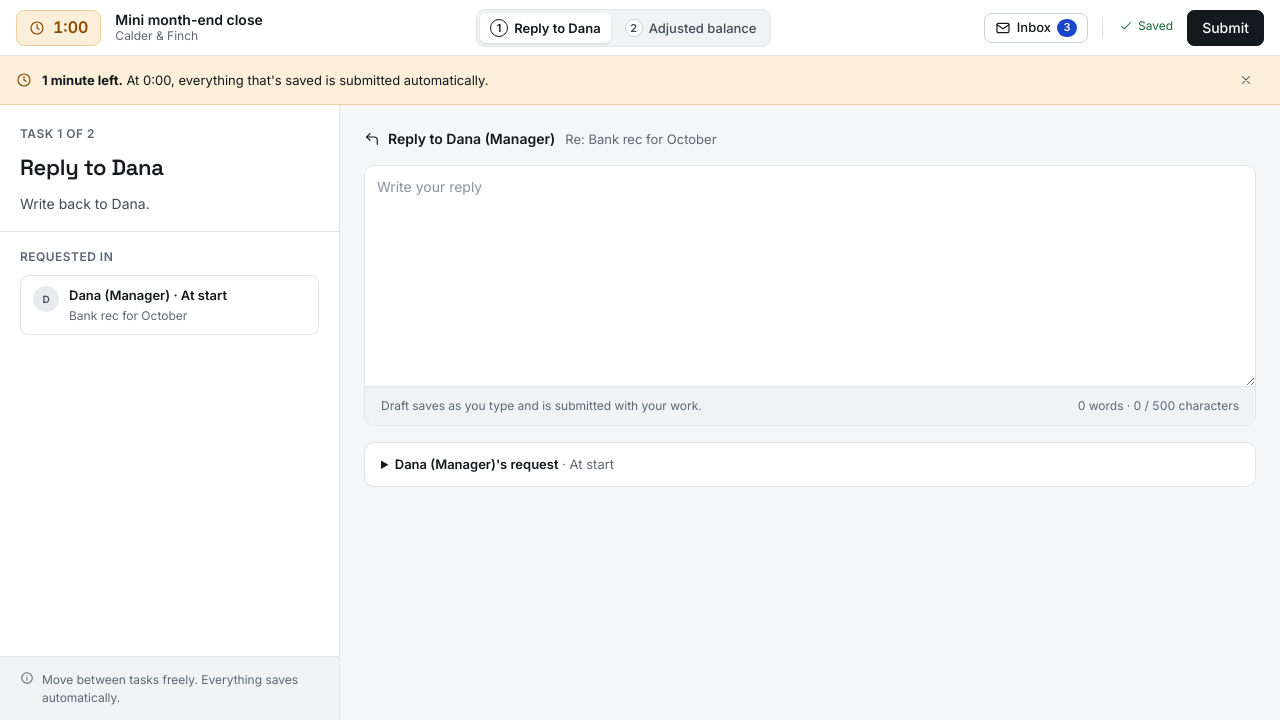
Test: countdown (display only) › warns once a minute is left, and the warning can be dismissed
Check: the text "1 minute left." is shown, box [42, 72, 123, 88]
Click the button named "Dismiss": [1246, 80] box [1228, 65, 1264, 95]
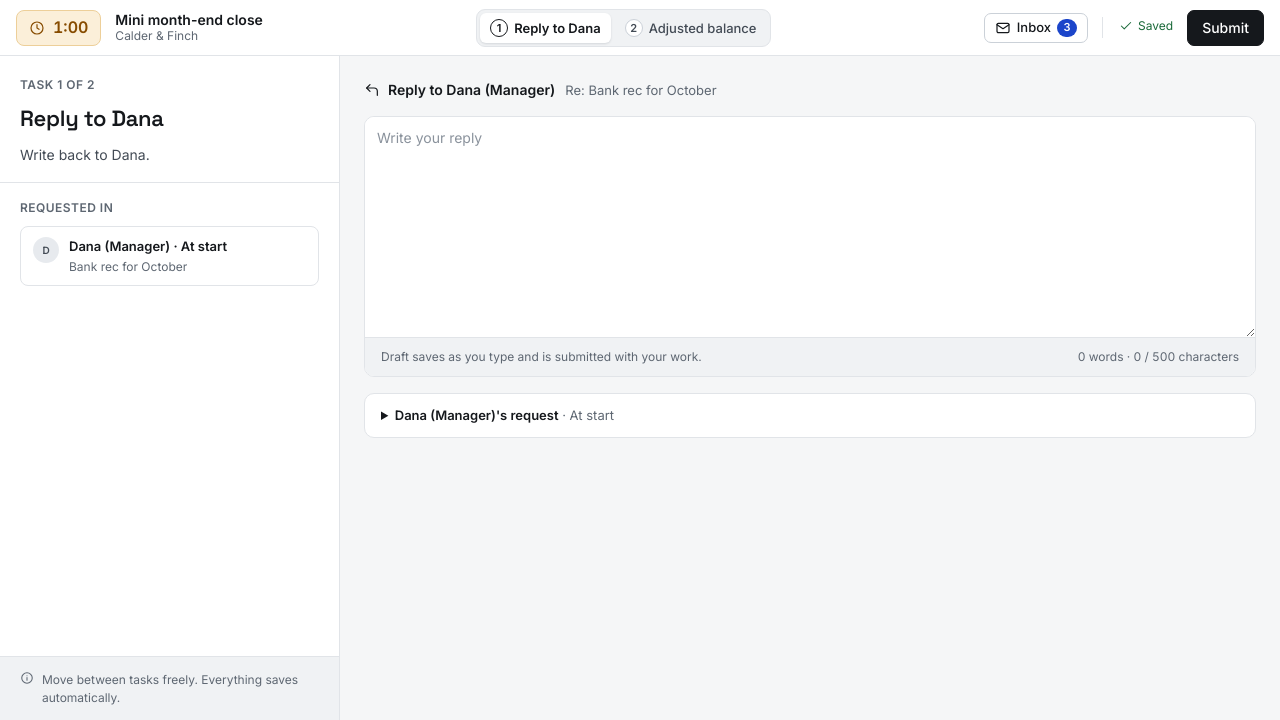
Check: the text "1 minute left" is gone
